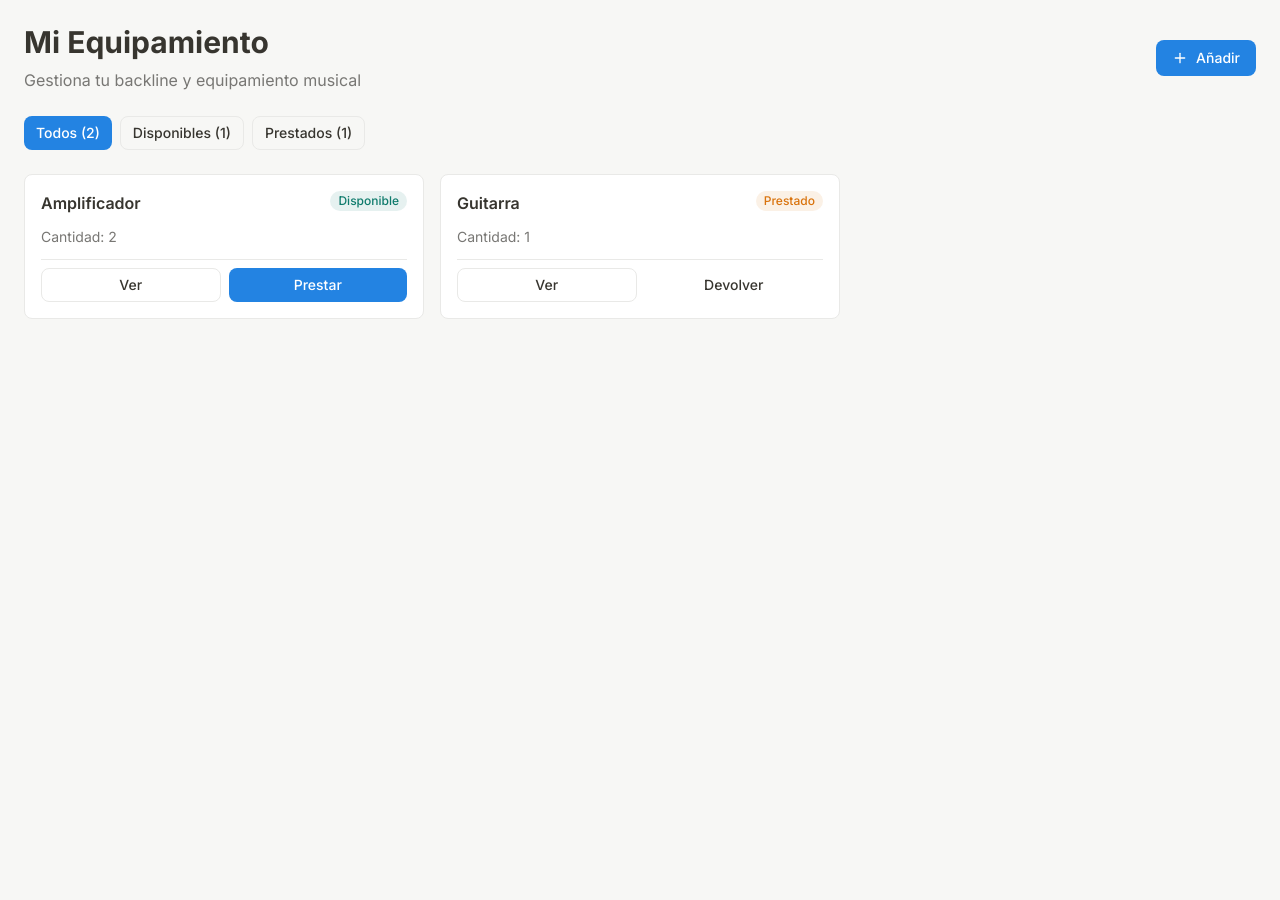
Scenario: Items › muestra el detalle del item
Click the button "Ver" below "Guitarra".
click(547, 285)  # box top-left (457, 268), bottom-right (636, 302)
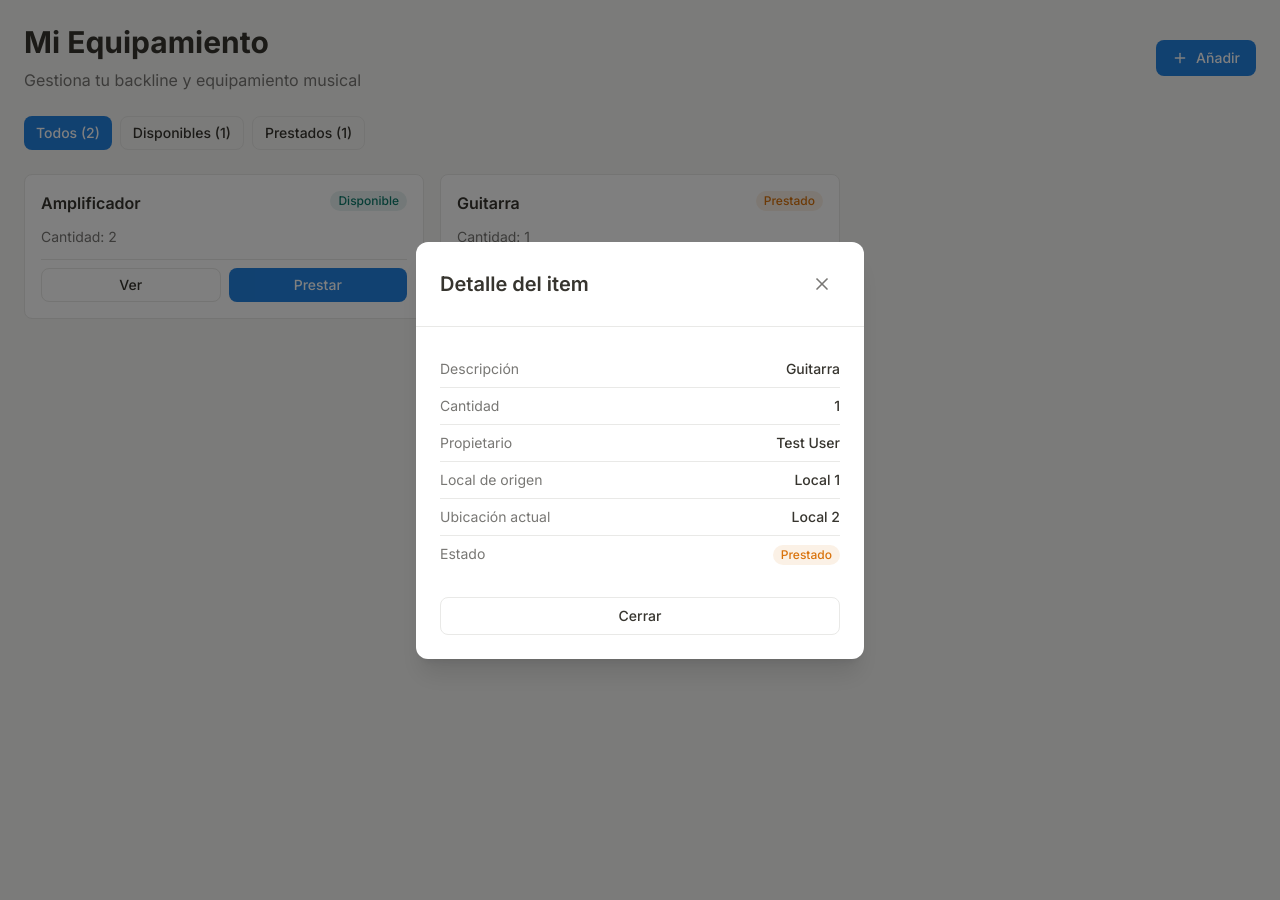
Check: the text "Guitarra" is shown, box top-left (786, 358), bottom-right (840, 378)
Check: the text "Test User" is shown, box top-left (776, 432), bottom-right (840, 452)
Check: the text "Local 2" is shown, box top-left (792, 506), bottom-right (840, 526)
Click the button named "Cerrar".
click(822, 284)  # box top-left (804, 266), bottom-right (840, 302)
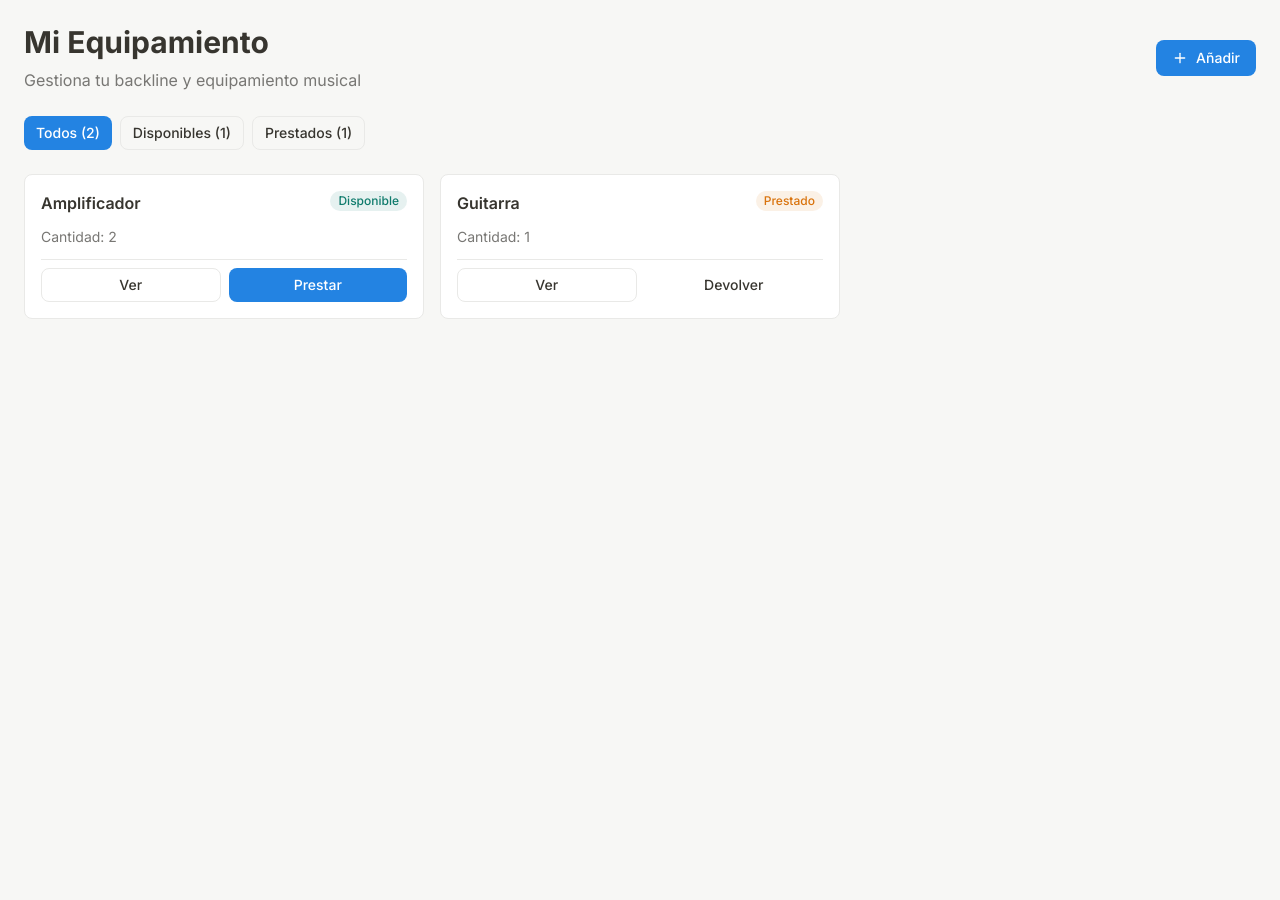
Check: the heading "Detalle del item" is gone
